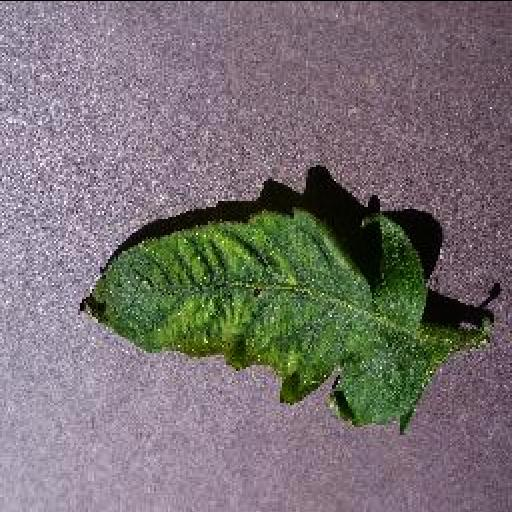disease_tomato: (76, 206, 434, 434)
